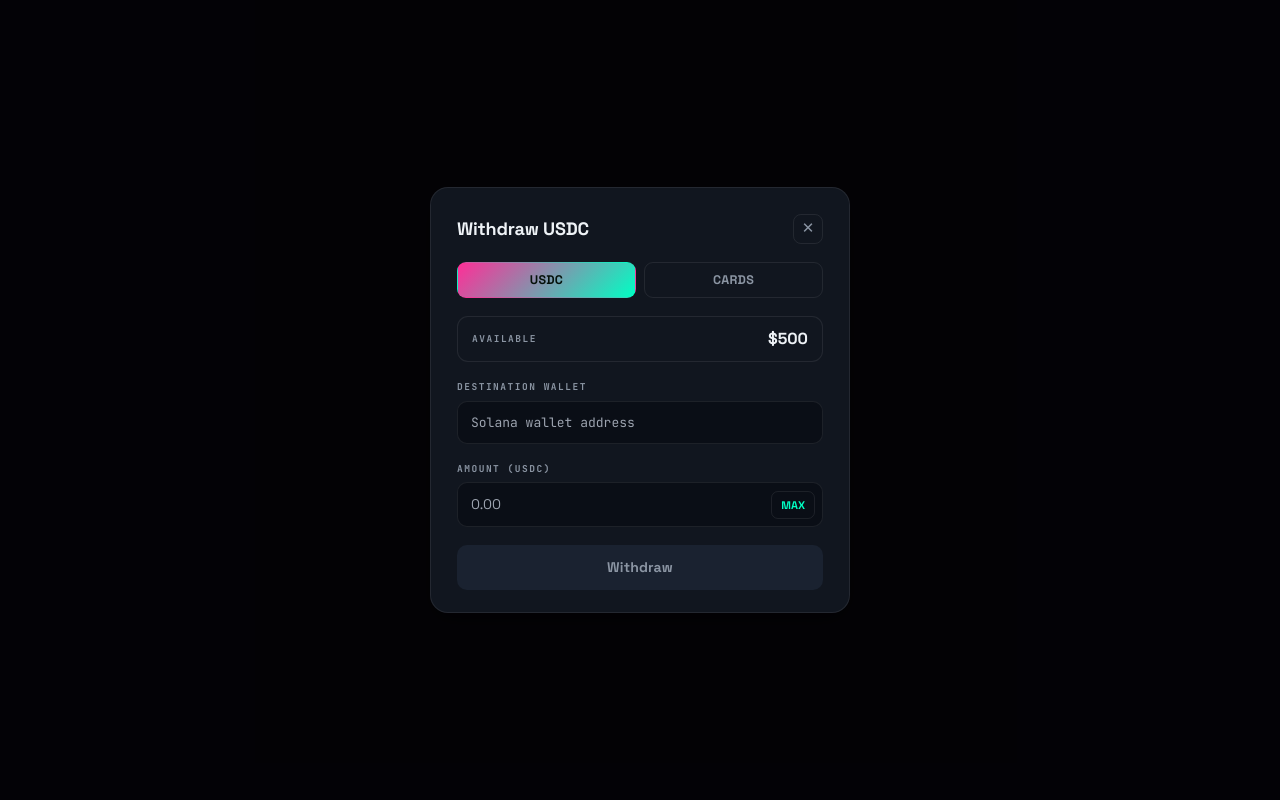
Test: WithdrawModal · qué se le dice al usuario cuando falla › por debajo del mínimo no dice "reinténtalo"
Step 1. Type "4Nd1mBQtrMJVYVfKf2PJy9NZUZdTAsp7D4xWLs4gKgBc" into the field with placeholder "Solana wallet address" → (640, 422), box [457,401,823,444]
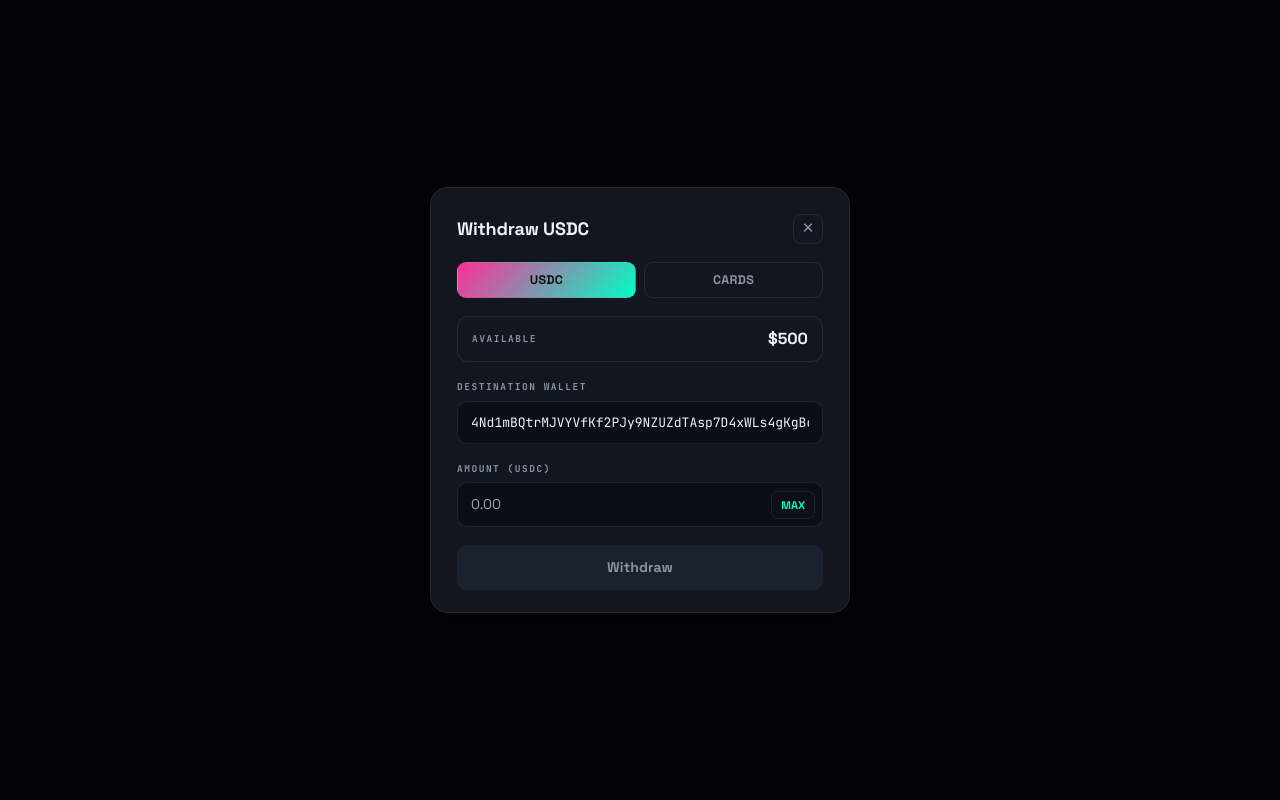
Step 2. Type "10" into the field with placeholder "0.00" → (640, 505), box [457,482,823,527]
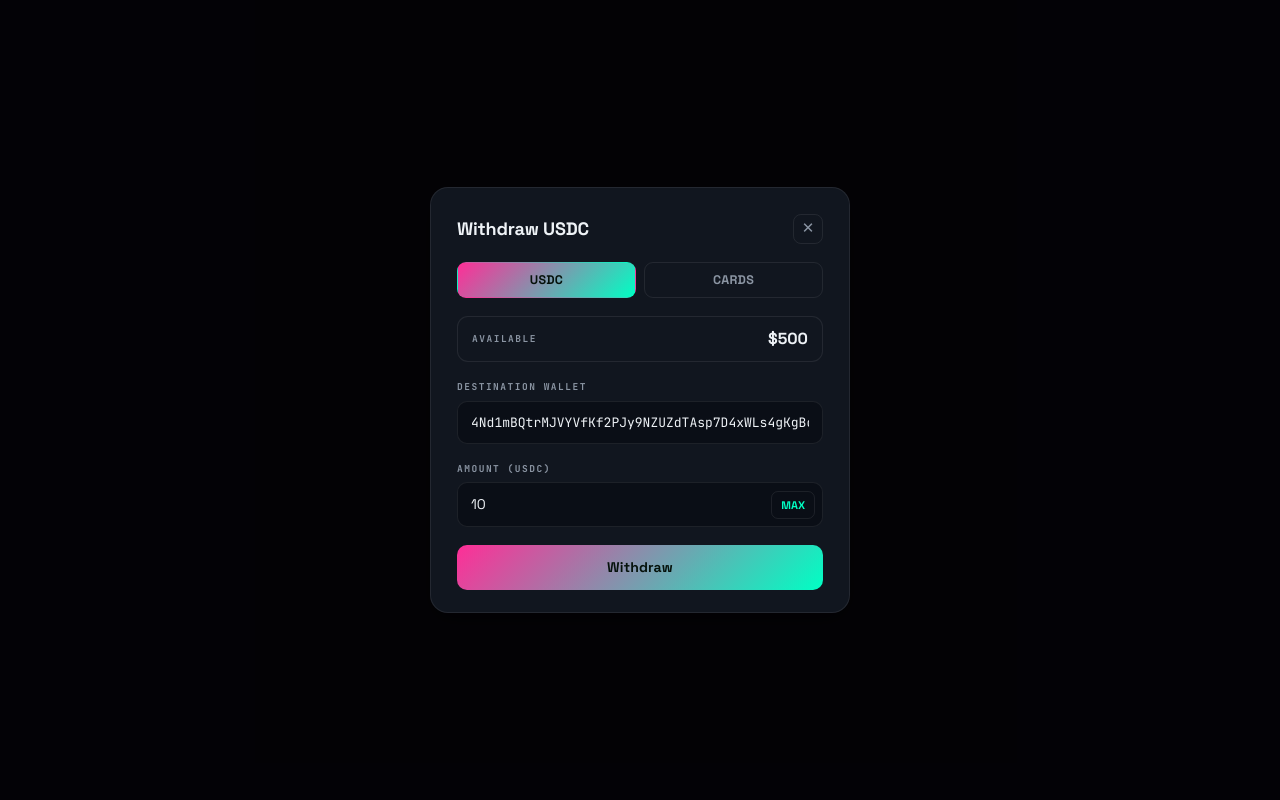
Step 3. Click the button "Withdraw" → click(640, 568), box [457,545,823,590]
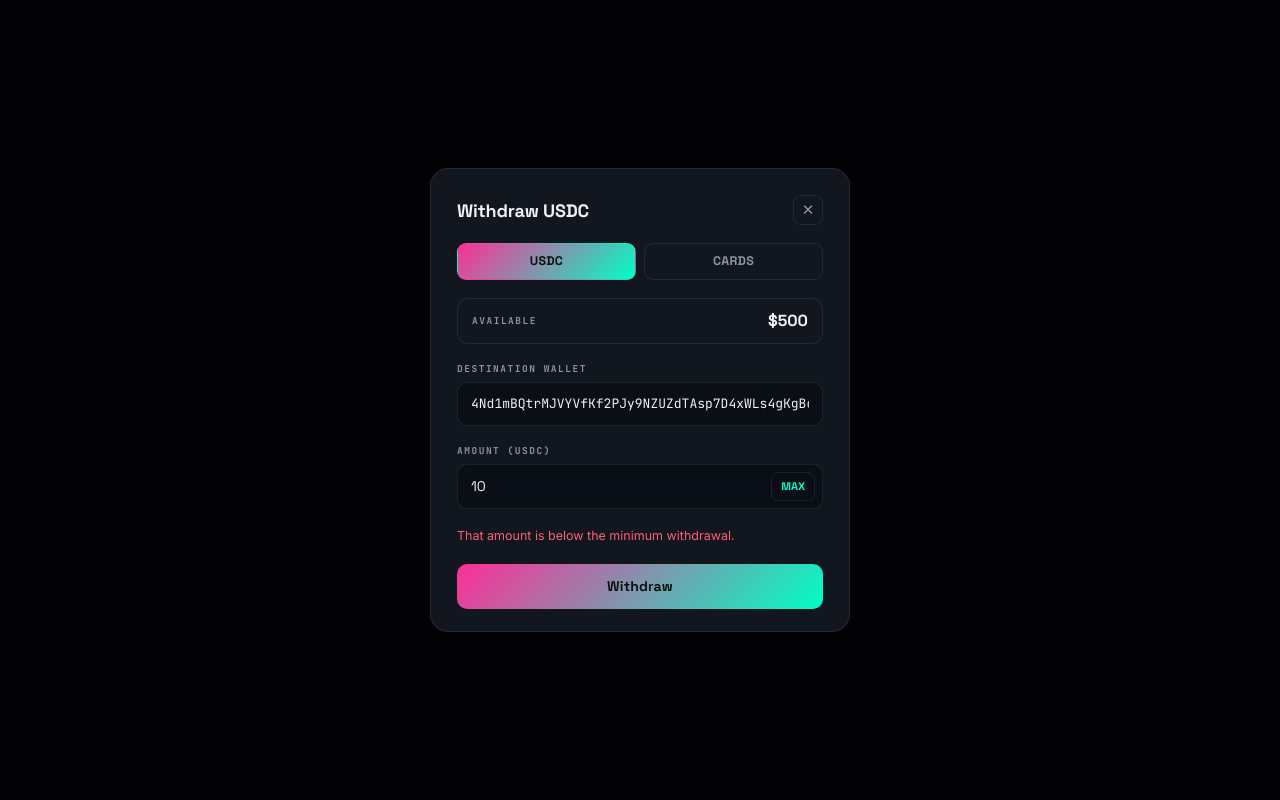
Check: the text "That amount is below the minimum withdrawal." is shown, box [457,528,734,543]
